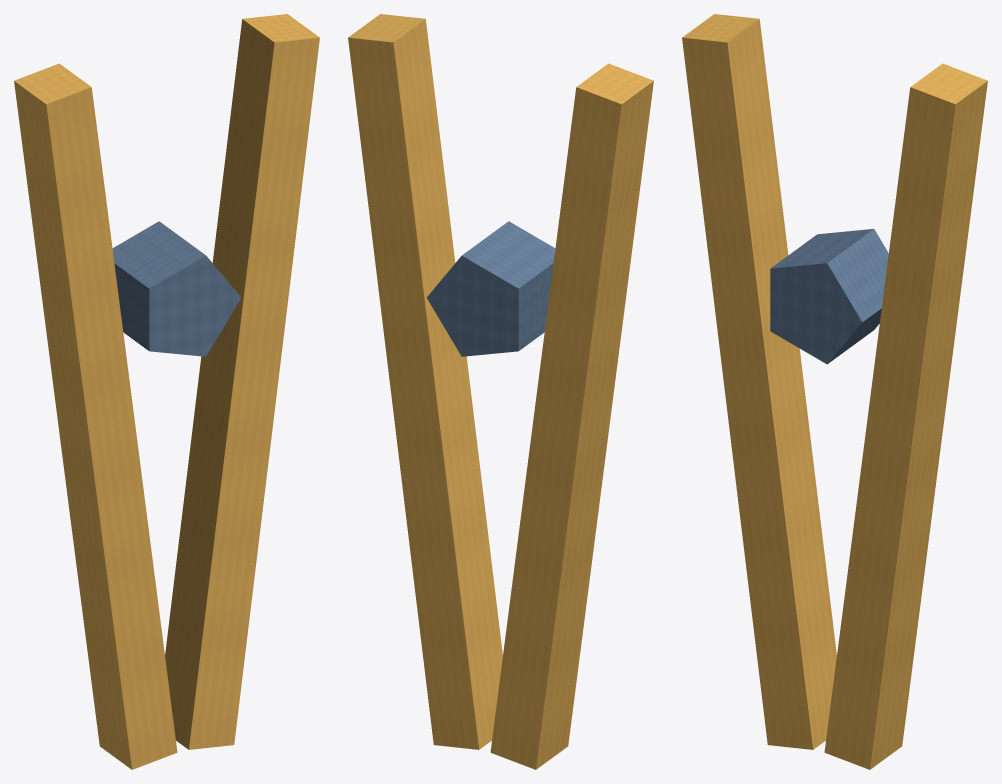
The model's file is atlas100-s057-a05.lod1.glb.
The picture shows the model from 3 angles, left to right: view 1: azimuth 30°, elevation 25°; view 2: azimuth 150°, elevation 25°; view 3: azimuth 330°, elevation 25°; orthographic projection.
Visible parts, largest first — view 1: atlas100-s057-a05:part-001, atlas100-s057-a05:part-000, atlas100-s057-a05:part-002; view 2: atlas100-s057-a05:part-001, atlas100-s057-a05:part-000, atlas100-s057-a05:part-002; view 3: atlas100-s057-a05:part-000, atlas100-s057-a05:part-001, atlas100-s057-a05:part-002.
Part boxes in pixels (x1,y1,x2,y2): atlas100-s057-a05:part-001: (165, 14, 319, 749); atlas100-s057-a05:part-000: (14, 63, 177, 769); atlas100-s057-a05:part-002: (112, 221, 241, 356); atlas100-s057-a05:part-001: (348, 14, 502, 749); atlas100-s057-a05:part-000: (490, 63, 653, 769); atlas100-s057-a05:part-002: (426, 221, 555, 356); atlas100-s057-a05:part-000: (682, 14, 836, 749); atlas100-s057-a05:part-001: (824, 63, 987, 769); atlas100-s057-a05:part-002: (770, 229, 888, 364).
Size of the model in its own units: 0.2936 by 0.7102 by 0.0874.
Materials: 2 (2 with a texture image).
